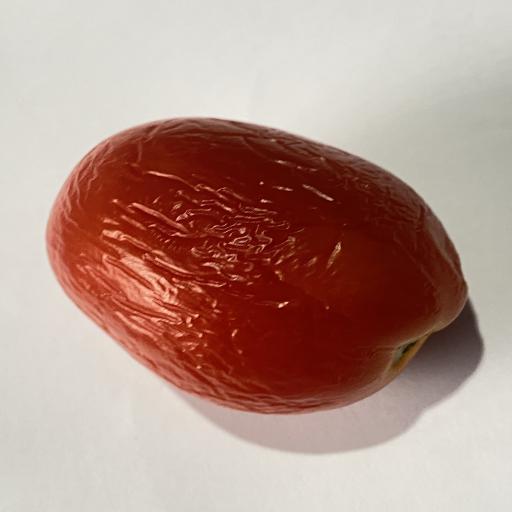spoiled: (47, 118, 467, 414)
